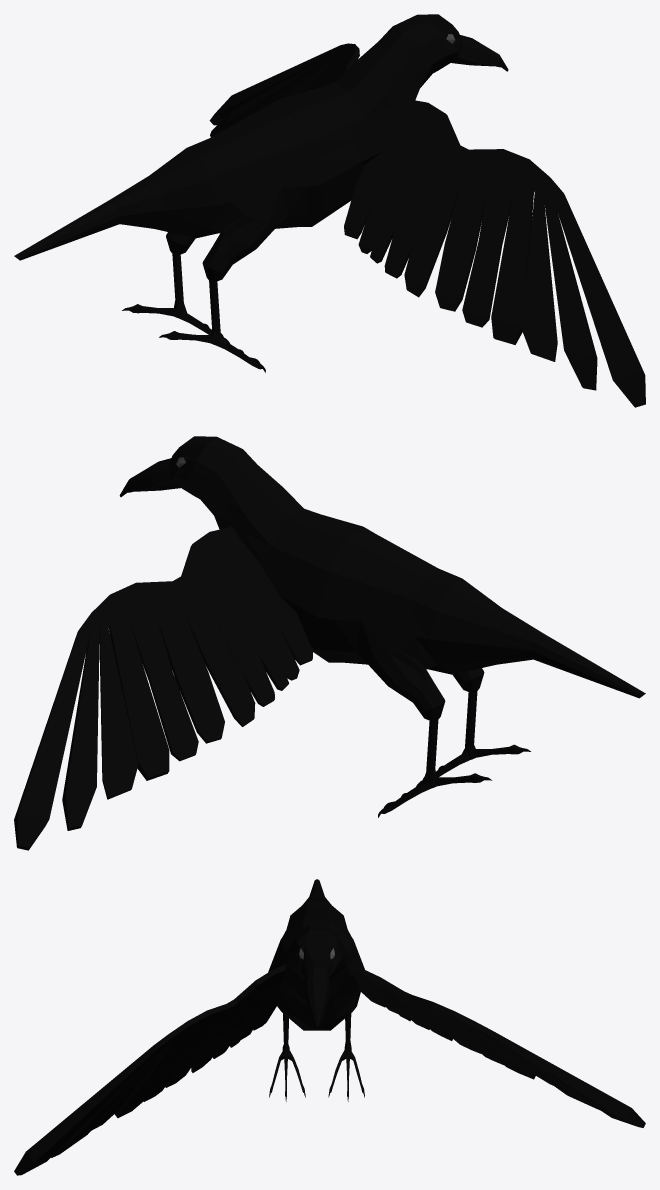
Rendered from crow_down_000004.obj.
3 views of the same model, one above another, from view 1: azimuth 30°, elevation 25°; view 2: azimuth 150°, elevation 25°; view 3: azimuth 270°, elevation 25° (orthographic). The views are drawn at different scales.
Visible parts, largest first — view 1: Cylinder; view 2: Cylinder; view 3: Cylinder.
Part boxes in pixels (x1,y1,x2,y2): Cylinder: (14,14,645,407); Cylinder: (14,436,645,850); Cylinder: (14,879,645,1175).
Bounding box in the file's own units: 1.61 × 0.9107 × 2.11.
